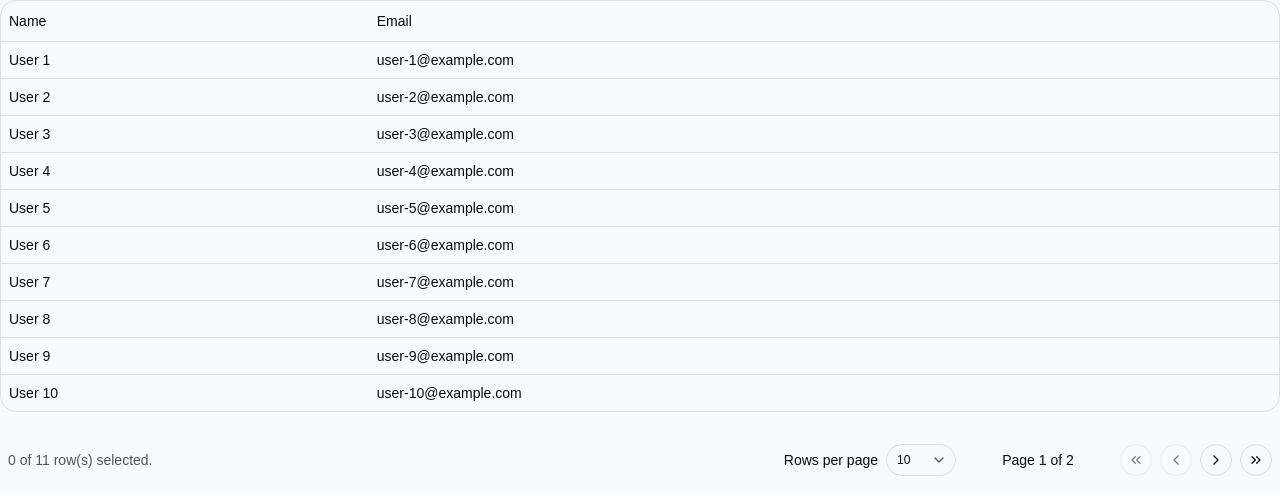
Test case: DataTable Component › navigates between paginated rows
Expected: the text "User 1" is shown, 1,41 -> 369,78
Expected: the text "User 11" is not shown
Click the 3rd button named "Go to next page" at point(1216, 460), box 1200,444 -> 1232,476
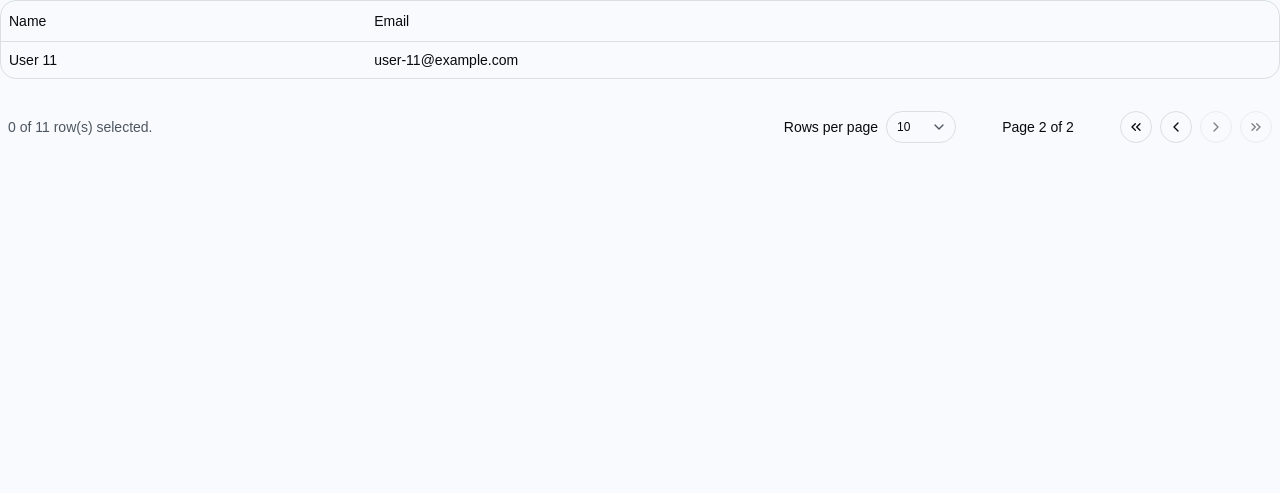
Expected: the text "User 11" is shown, 1,41 -> 366,78
Click the 2nd button named "Go to previous page" at point(1176, 126), box 1160,110 -> 1192,142
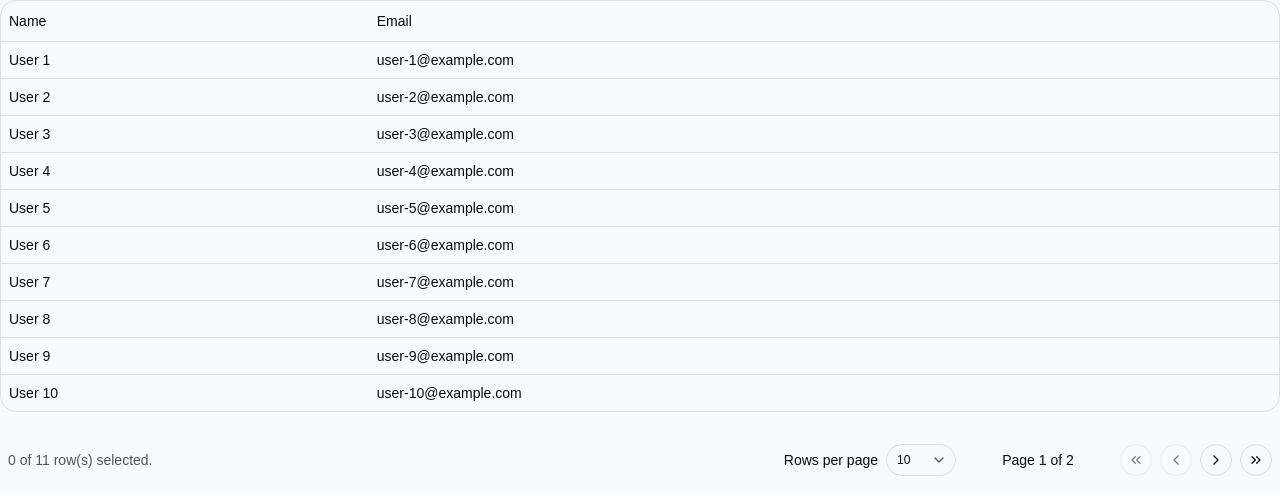
Expected: the text "User 1" is shown, 1,41 -> 369,78
Expected: the text "User 11" is gone
